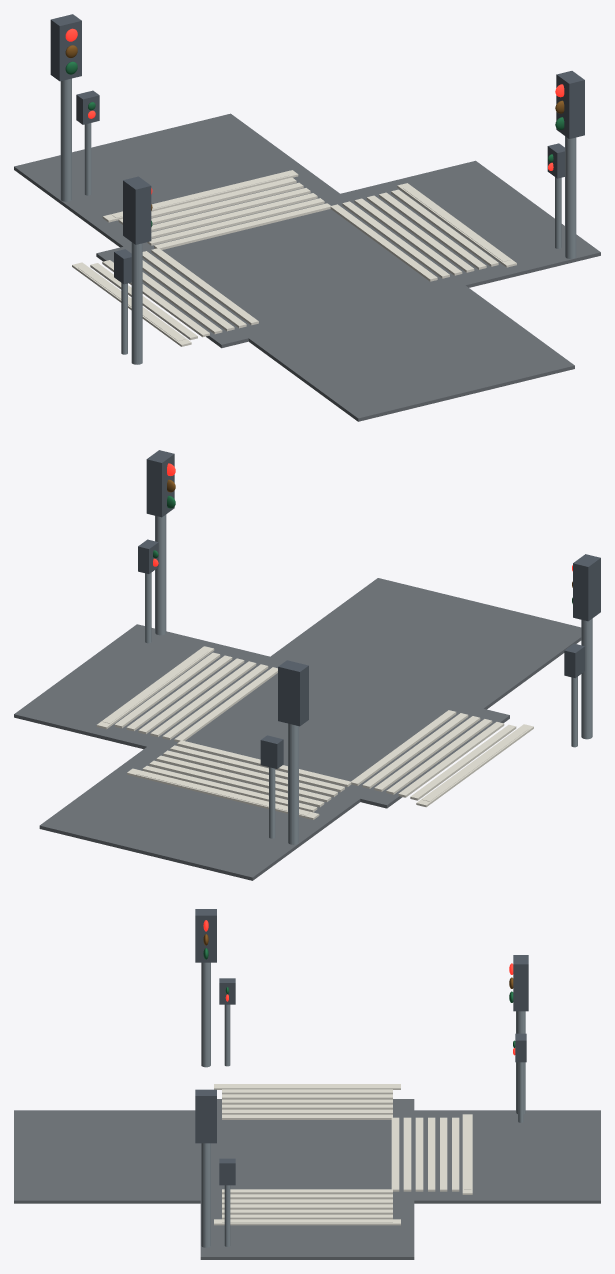
Rendered from traffic_signal_t_junction_v1.glb.
The picture shows the model from 3 angles, top to bottom: view 1: azimuth 30°, elevation 25°; view 2: azimuth 150°, elevation 25°; view 3: azimuth 270°, elevation 25°; orthographic projection. The views are drawn at different scales.
Visible parts, largest first — view 1: Road_NS.001, Road_EW.001, Signal_Housing_SIGNAL_T_JUNCTION_W, Signal_Housing_SIGNAL_T_JUNCTION_N, Signal_Housing_SIGNAL_T_JUNCTION_E, Signal_Mast_SIGNAL_T_JUNCTION_N, Signal_Mast_SIGNAL_T_JUNCTION_W, Signal_Mast_SIGNAL_T_JUNCTION_E, Zebra_Stripe_N.008, Zebra_Stripe_N.007, Zebra_Stripe_N.009, Zebra_Stripe_N.010 (+23 smaller); view 2: Road_NS.001, Road_EW.001, Signal_Housing_SIGNAL_T_JUNCTION_N, Signal_Housing_SIGNAL_T_JUNCTION_W, Signal_Housing_SIGNAL_T_JUNCTION_E, Signal_Mast_SIGNAL_T_JUNCTION_E, Signal_Mast_SIGNAL_T_JUNCTION_W, Signal_Mast_SIGNAL_T_JUNCTION_N, Zebra_Stripe_N.010, Zebra_Stripe_N.011, Zebra_Stripe_N.008, Zebra_Stripe_N.009 (+23 smaller); view 3: Road_NS.001, Road_EW.001, Signal_Housing_SIGNAL_T_JUNCTION_E, Signal_Housing_SIGNAL_T_JUNCTION_W, Signal_Mast_SIGNAL_T_JUNCTION_W, Signal_Mast_SIGNAL_T_JUNCTION_E, Zebra_Stripe_W.008, Zebra_Stripe_W.009, Zebra_Stripe_W.010, Zebra_Stripe_W.011, Zebra_Stripe_W.012, Zebra_Stripe_W.013 (+20 smaller).
Part boxes in pixels (x1,y1,x2,y2): Road_NS.001: (14, 113, 574, 421); Road_EW.001: (96, 160, 600, 348); Signal_Housing_SIGNAL_T_JUNCTION_W: (123, 176, 151, 244); Signal_Housing_SIGNAL_T_JUNCTION_N: (50, 14, 81, 81); Signal_Housing_SIGNAL_T_JUNCTION_E: (556, 71, 584, 138); Signal_Mast_SIGNAL_T_JUNCTION_N: (60, 78, 71, 201); Signal_Mast_SIGNAL_T_JUNCTION_W: (131, 242, 142, 364); Signal_Mast_SIGNAL_T_JUNCTION_E: (565, 136, 576, 258); Zebra_Stripe_N.008: (147, 198, 324, 245); Zebra_Stripe_N.007: (154, 203, 331, 249); Zebra_Stripe_N.009: (151, 193, 317, 238); Zebra_Stripe_N.010: (151, 188, 310, 231); Road_NS.001: (39, 578, 581, 880); Road_EW.001: (14, 624, 509, 808); Signal_Housing_SIGNAL_T_JUNCTION_N: (278, 660, 308, 726); Signal_Housing_SIGNAL_T_JUNCTION_W: (573, 554, 600, 621); Signal_Housing_SIGNAL_T_JUNCTION_E: (146, 450, 174, 517); Signal_Mast_SIGNAL_T_JUNCTION_E: (155, 514, 166, 635); Signal_Mast_SIGNAL_T_JUNCTION_W: (581, 618, 592, 739); Signal_Mast_SIGNAL_T_JUNCTION_N: (288, 723, 298, 844); Zebra_Stripe_N.010: (156, 755, 331, 802); Zebra_Stripe_N.011: (149, 760, 324, 807); Zebra_Stripe_N.008: (170, 745, 344, 792); Zebra_Stripe_N.009: (163, 750, 337, 797); Road_NS.001: (14, 1110, 600, 1203); Road_EW.001: (200, 1099, 414, 1259); Signal_Housing_SIGNAL_T_JUNCTION_E: (195, 1089, 216, 1143); Signal_Housing_SIGNAL_T_JUNCTION_W: (195, 909, 216, 962); Signal_Mast_SIGNAL_T_JUNCTION_W: (201, 962, 210, 1067); Signal_Mast_SIGNAL_T_JUNCTION_E: (201, 1143, 210, 1247); Zebra_Stripe_W.008: (222, 1089, 392, 1094); Zebra_Stripe_W.009: (222, 1094, 392, 1099); Zebra_Stripe_W.010: (222, 1099, 392, 1104); Zebra_Stripe_W.011: (222, 1104, 392, 1109); Zebra_Stripe_W.012: (222, 1109, 392, 1114); Zebra_Stripe_W.013: (222, 1114, 392, 1119).
Size of the model in its own units: 17.29 by 6.44 by 22.
